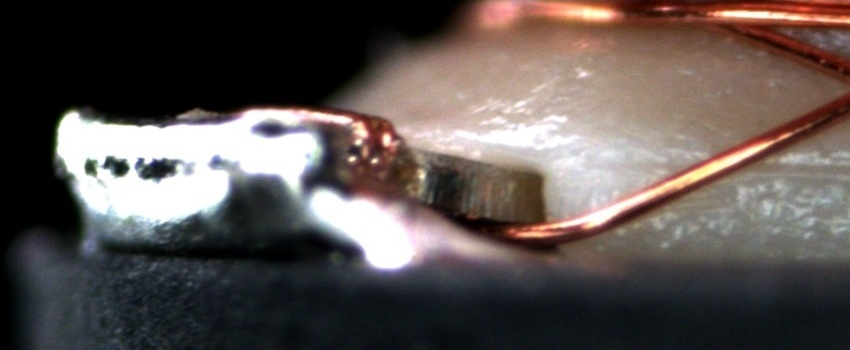CL: (833, 56, 850, 112)
DL: (591, 135, 849, 193)
TE: (210, 100, 401, 169)
